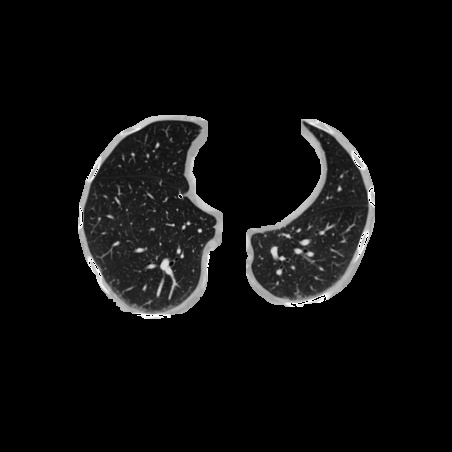PN: (178, 194, 182, 198)
